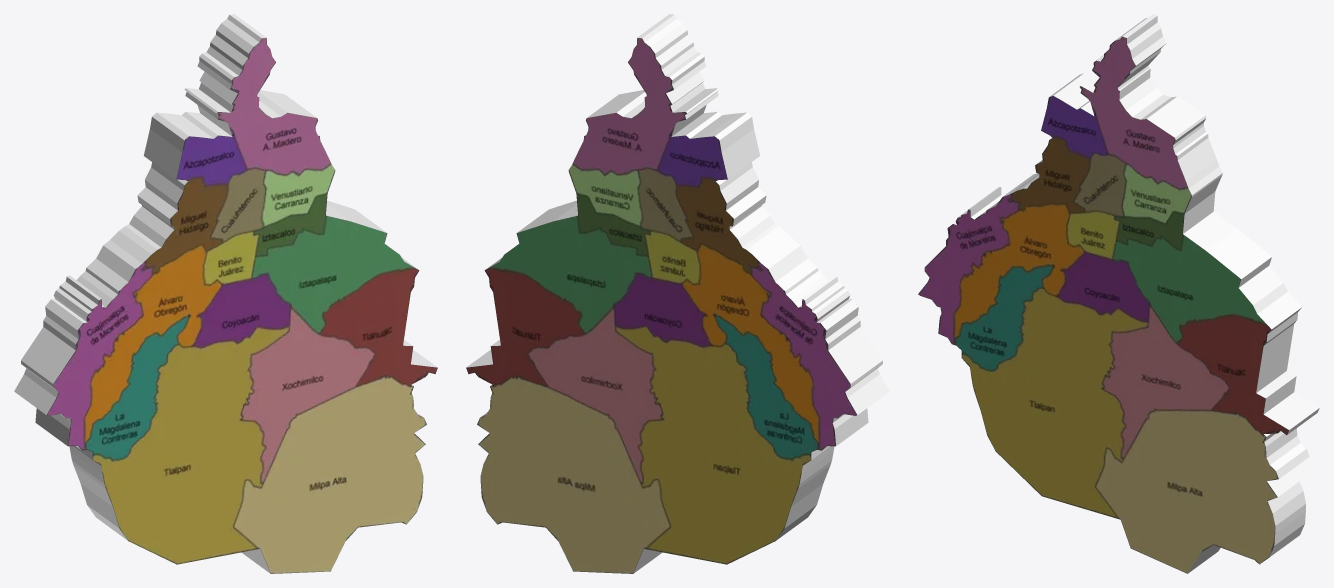
File: cdmx.glb
3 views of the same model, side by side, from view 1: azimuth 30°, elevation 25°; view 2: azimuth 150°, elevation 25°; view 3: azimuth 330°, elevation 25° (orthographic). The views are drawn at different scales.
Visible parts, largest first — view 1: Plano; view 2: Plano; view 3: Plano.
Part boxes in pixels (x1=…): Plano: x1=14, y1=14, x2=437, y2=573; Plano: x1=466, y1=14, x2=889, y2=573; Plano: x1=918, y1=14, x2=1319, y2=573.
Size of the model in its own units: 0.7023 by 0.943 by 0.1007.
Materials: 1 (1 with a texture image).
